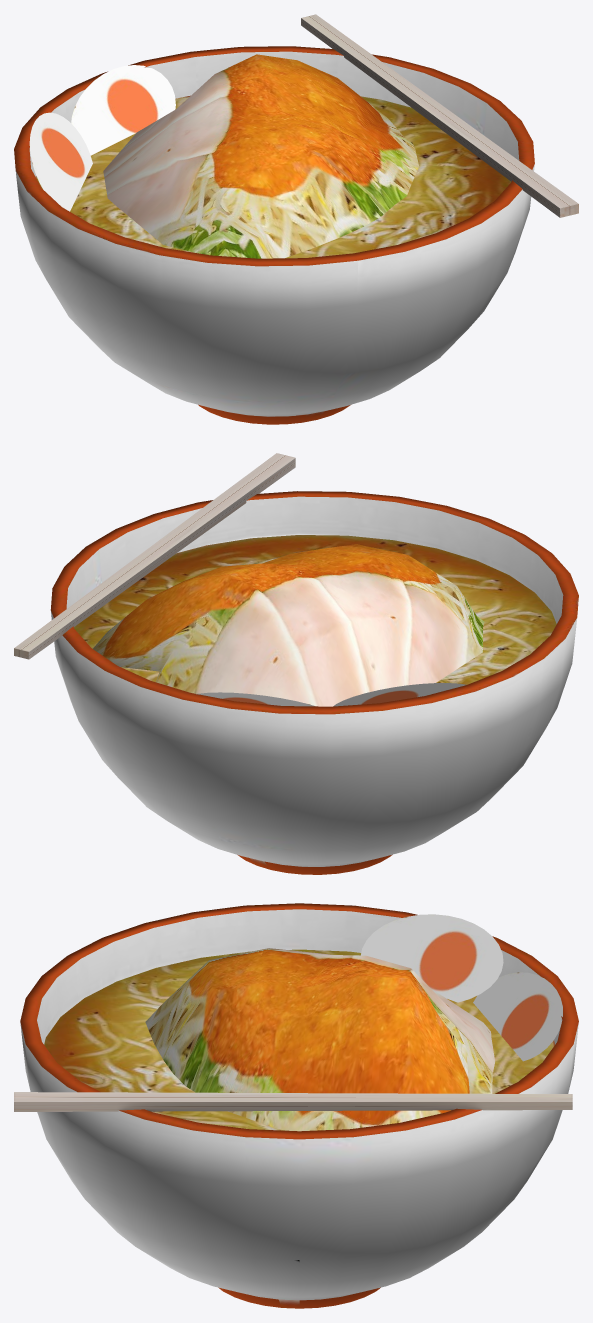
File: neneramen.glb
The picture shows the model from 3 angles, top to bottom: view 1: azimuth 30°, elevation 25°; view 2: azimuth 150°, elevation 25°; view 3: azimuth 270°, elevation 25°; orthographic projection. The views are drawn at different scales.
Parts seen in each view (by area): view 1: bowl, addon, chop; view 2: bowl, addon, chop; view 3: bowl, addon, chop.
Boxes of the visible parts, box(x1,y1,x2,y2) form: bowl: box(14, 46, 534, 424); addon: box(29, 54, 419, 258); chop: box(301, 14, 578, 217); bowl: box(50, 491, 578, 874); addon: box(93, 544, 484, 706); chop: box(14, 453, 295, 659); bowl: box(20, 903, 578, 1308); addon: box(145, 914, 562, 1131); chop: box(14, 1092, 572, 1111).
Size of the model in its own units: 0.206 by 0.1254 by 0.2083.
Materials: 3 (3 with a texture image).
